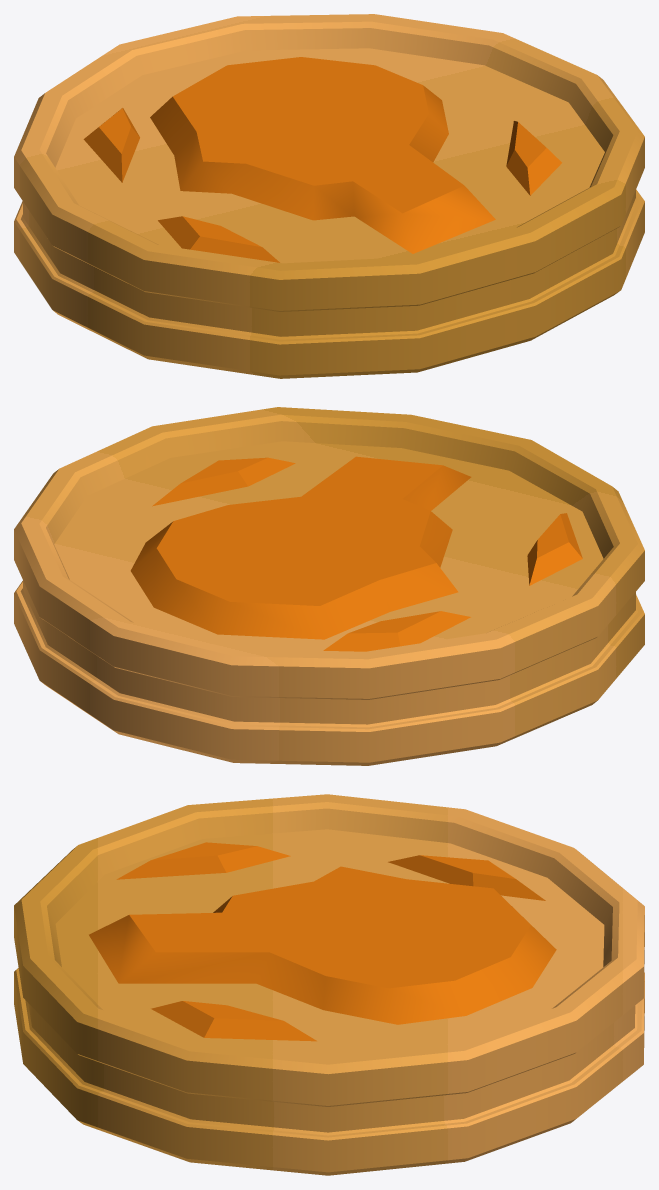
File: SM_Coin_00.fbx
3 renders of one model, top to bottom at view 1: azimuth 30°, elevation 25°; view 2: azimuth 150°, elevation 25°; view 3: azimuth 270°, elevation 25°, orthographic. The views are drawn at different scales.
Visible parts, largest first — view 1: Coin; view 2: Coin; view 3: Coin.
Boxes of the visible parts, x1,y1,x2,y2 form: Coin: [14, 14, 644, 378]; Coin: [14, 407, 644, 765]; Coin: [14, 794, 644, 1175].
Bounding box in the file's own units: 130 × 25.87 × 125.
Materials: 1 (1 with a texture image).
